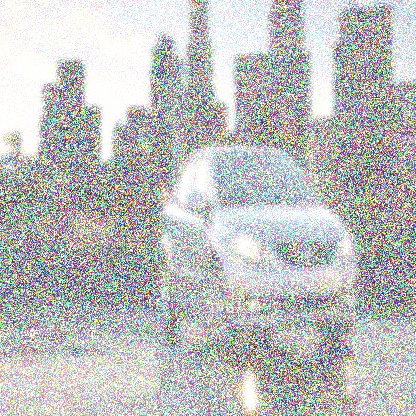Vehicle: (155, 140, 360, 357)
